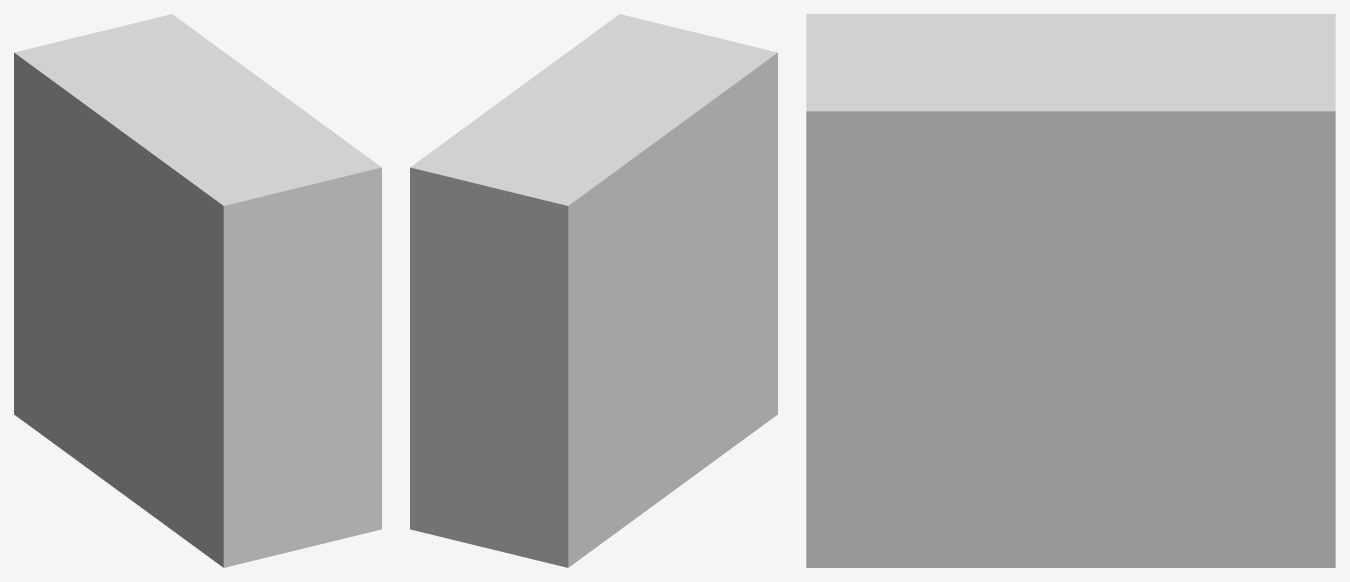
The model's file is Itr_Obj_Desktop_04.FBX.
The picture shows the model from 3 angles, left to right: view 1: azimuth 30°, elevation 25°; view 2: azimuth 150°, elevation 25°; view 3: azimuth 270°, elevation 25°; orthographic projection. The views are drawn at different scales.
Visible parts, largest first — view 1: Itr_Obj_Desktop_04; view 2: Itr_Obj_Desktop_04; view 3: Itr_Obj_Desktop_04.
Part boxes in pixels (x1,y1,x2,y2): Itr_Obj_Desktop_04: (14, 14, 381, 567); Itr_Obj_Desktop_04: (410, 14, 777, 567); Itr_Obj_Desktop_04: (806, 14, 1335, 567).
Bounding box in the file's own units: 10.22 × 22.36 × 23.48.
